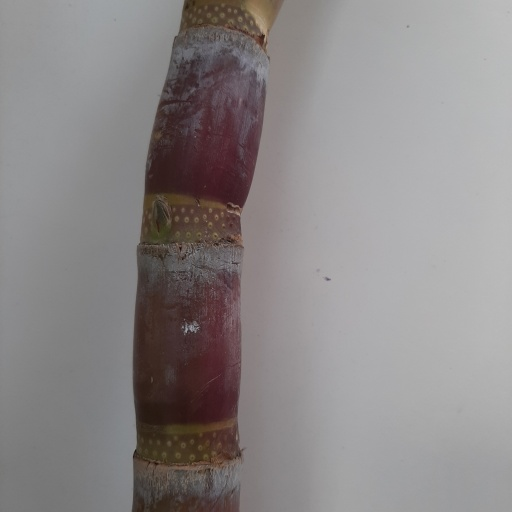Bud: (149, 196, 171, 239)
